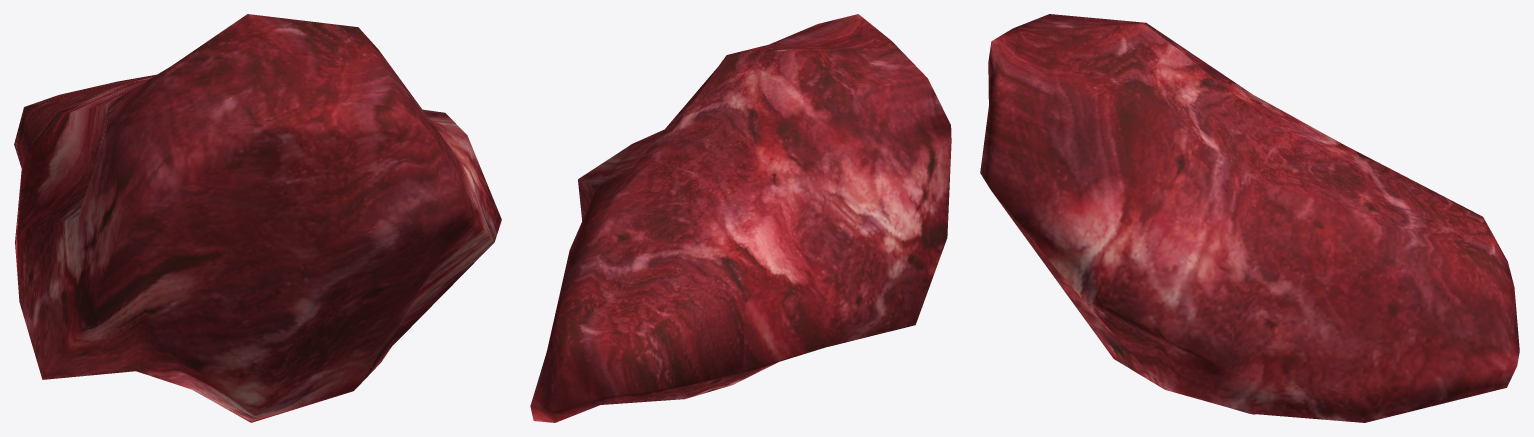
File: gibBig.dae
The picture shows the model from 3 angles, left to right: view 1: azimuth 30°, elevation 25°; view 2: azimuth 150°, elevation 25°; view 3: azimuth 270°, elevation 25°; orthographic projection. The views are drawn at different scales.
Parts seen in each view (by area): view 1: bigBig; view 2: bigBig; view 3: bigBig.
Part boxes in pixels (bbox=[...]): bigBig: bbox=[14, 14, 501, 422]; bigBig: bbox=[530, 14, 951, 422]; bigBig: bbox=[980, 14, 1519, 422].
Bounding box in the file's own units: 0.7364 × 0.6826 × 0.9898.
Materials: 1 (1 with a texture image).
